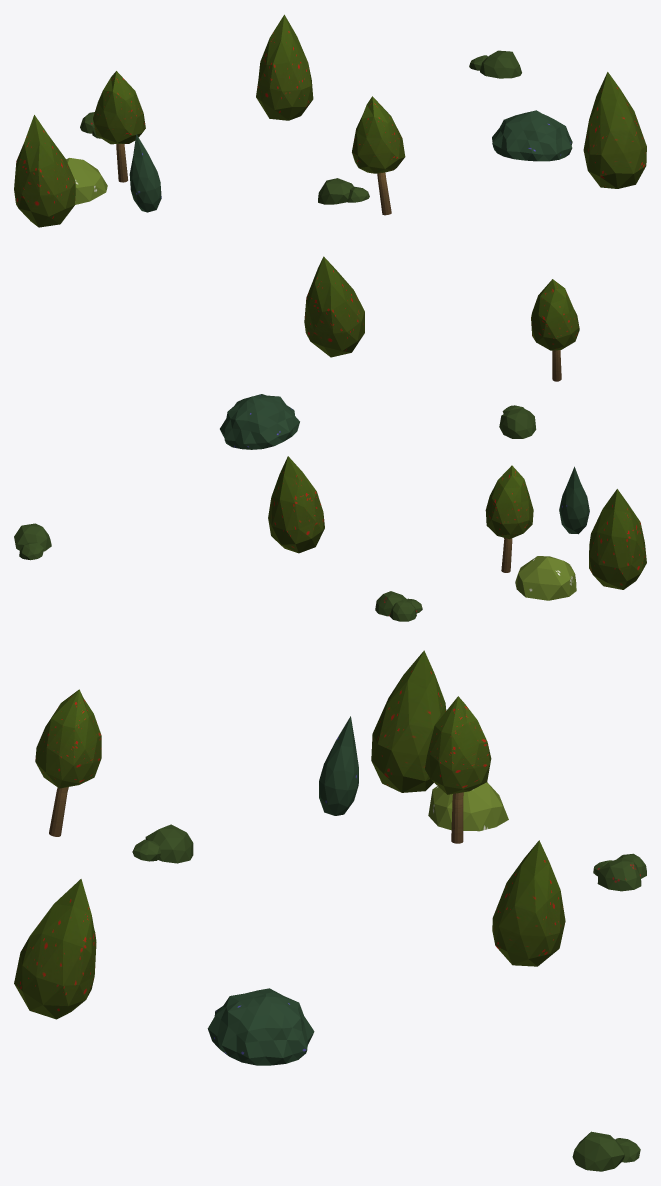
The model's file is Bushes2.gltf.
3 views of the same model, one above another, from view 1: azimuth 30°, elevation 25°; view 2: azimuth 150°, elevation 25°; view 3: azimuth 270°, elevation 25° (orthographic). The views are drawn at different scales.
Parts seen in each view (by area): view 1: Hollytree3 - copy.021, Hollytree3 - copy.012, Hollytree3 - copy.007, Hollytree1 - copy.022, JuniperBush1 - copy.022, Hollytree1 - copy.001, JuniperBush2 - copy.015, ElderberryBush1 - copy.007, StrawberryBush1 - copy.003, StrawberryBush1 - copy.023; view 2: Hollytree3 - copy.021, Hollytree3 - copy.012, Hollytree3 - copy.007, JuniperBush1 - copy.022, Hollytree1 - copy.001, Hollytree1 - copy.022, ElderberryBush1 - copy.007, JuniperBush2 - copy.015, StrawberryBush1 - copy.003, StrawberryBush3 - copy.013, StrawberryBush1 - copy.023; view 3: Hollytree3 - copy.021, Hollytree3 - copy.012, Hollytree3 - copy.007, JuniperBush1 - copy.022, Hollytree1 - copy.022, Hollytree1 - copy.001, JuniperBush2 - copy.015, ElderberryBush1 - copy.007, StrawberryBush1 - copy.003, StrawberryBush1 - copy.023, StrawberryBush3 - copy.013.
Boxes of the visible parts, x1,y1,x2,y2 form: Hollytree3 - copy.021: (583, 72, 646, 188); Hollytree3 - copy.012: (14, 115, 75, 227); Hollytree3 - copy.007: (256, 14, 313, 120); Hollytree1 - copy.022: (352, 96, 405, 215); JuniperBush1 - copy.022: (492, 110, 572, 161); Hollytree1 - copy.001: (93, 71, 145, 182); JuniperBush2 - copy.015: (129, 134, 161, 212); ElderberryBush1 - copy.007: (66, 158, 107, 204); StrawberryBush1 - copy.003: (469, 50, 521, 78); StrawberryBush1 - copy.023: (318, 178, 369, 204); Hollytree3 - copy.021: (304, 256, 364, 357); Hollytree3 - copy.012: (589, 489, 646, 589); Hollytree3 - copy.007: (268, 456, 324, 553); JuniperBush1 - copy.022: (220, 394, 299, 449); Hollytree1 - copy.001: (485, 465, 533, 572); Hollytree1 - copy.022: (531, 279, 579, 381); ElderberryBush1 - copy.007: (515, 556, 576, 600); JuniperBush2 - copy.015: (559, 466, 589, 534); StrawberryBush1 - copy.003: (14, 523, 51, 560); StrawberryBush3 - copy.013: (375, 591, 422, 621); StrawberryBush1 - copy.023: (499, 405, 536, 438); Hollytree3 - copy.021: (14, 879, 96, 1019); Hollytree3 - copy.012: (371, 650, 446, 792); Hollytree3 - copy.007: (492, 840, 565, 966); JuniperBush1 - copy.022: (207, 988, 314, 1065); Hollytree1 - copy.022: (35, 689, 101, 836); Hollytree1 - copy.001: (425, 696, 491, 843); JuniperBush2 - copy.015: (319, 716, 358, 815); ElderberryBush1 - copy.007: (428, 782, 508, 831); StrawberryBush1 - copy.003: (572, 1131, 640, 1171); StrawberryBush1 - copy.023: (132, 824, 193, 863); StrawberryBush3 - copy.013: (593, 853, 646, 891).
Size of the model in its own units: 22.92 by 7.99 by 17.25.
Materials: 7 (7 with a texture image).
